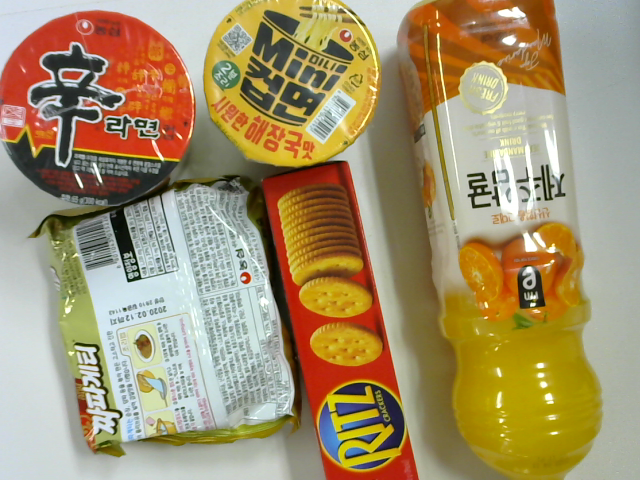Hejangmini: (203, 2, 385, 172)
Jeju_Tangerine_1.5L: (393, 2, 603, 480)
Olive_Chapaghetti: (33, 182, 301, 460)
Ritz_Cracker: (261, 162, 429, 480)
Sinramen_small: (1, 10, 197, 204)
